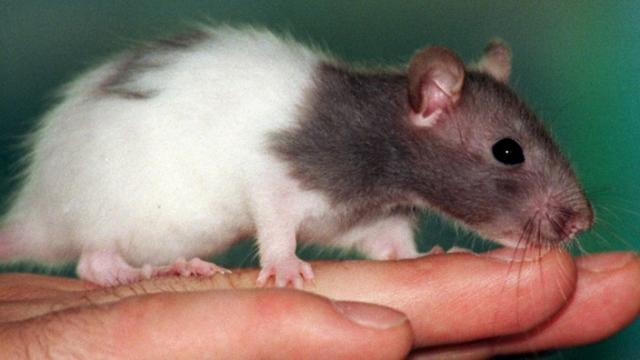rat: (1, 16, 606, 294)
